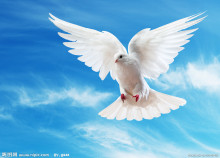bird: (47, 9, 208, 123)
